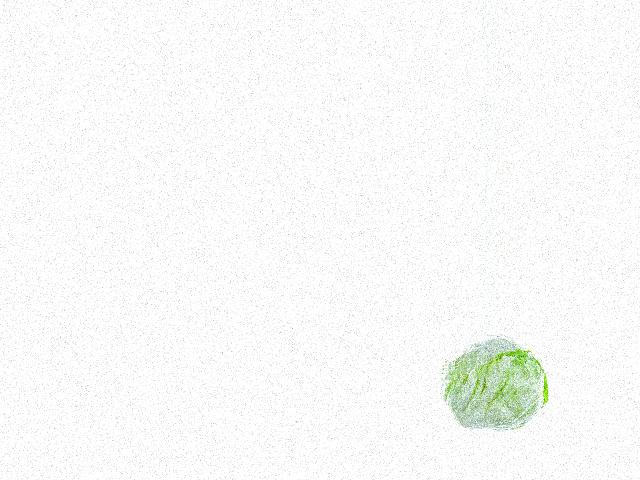lettuce: (441, 336, 546, 426)
